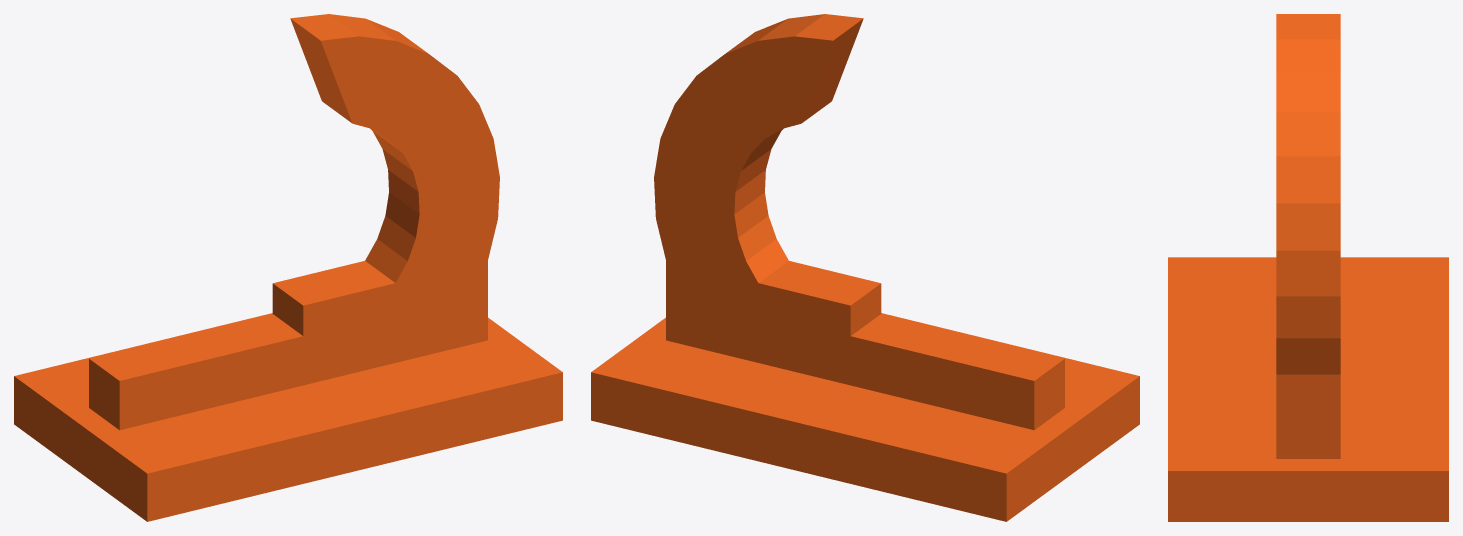
File: WallMount_Hook_02.fbx
3 views of the same model, side by side, from view 1: azimuth 30°, elevation 25°; view 2: azimuth 150°, elevation 25°; view 3: azimuth 270°, elevation 25° (orthographic). The views are drawn at different scales.
Parts seen in each view (by area): view 1: WallMount_Hook_02; view 2: WallMount_Hook_02; view 3: WallMount_Hook_02.
Part boxes in pixels (x1=…): WallMount_Hook_02: x1=14, y1=14, x2=562, y2=521; WallMount_Hook_02: x1=591, y1=14, x2=1139, y2=521; WallMount_Hook_02: x1=1168, y1=14, x2=1448, y2=521.
Bounding box in the file's own units: 18 × 16.09 × 10.
